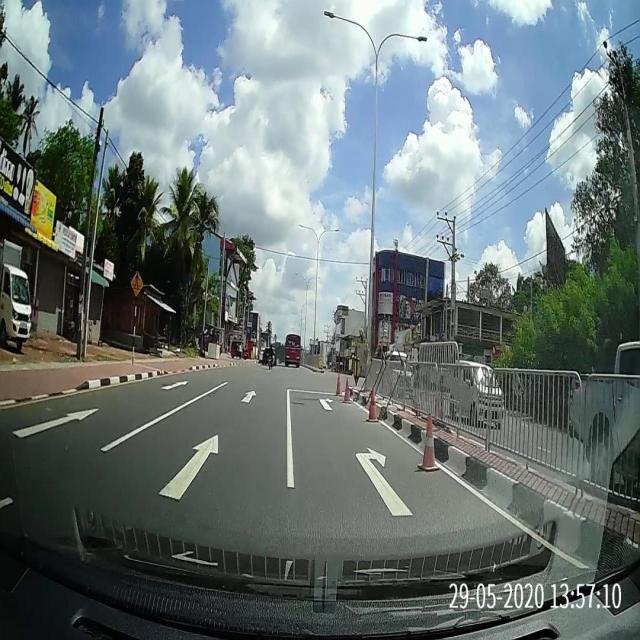Strelka vpered: (157, 432, 219, 503), (11, 407, 103, 441), (159, 380, 189, 391), (240, 389, 257, 403)
Strelka vpravo: (355, 446, 415, 518), (319, 397, 334, 411)
